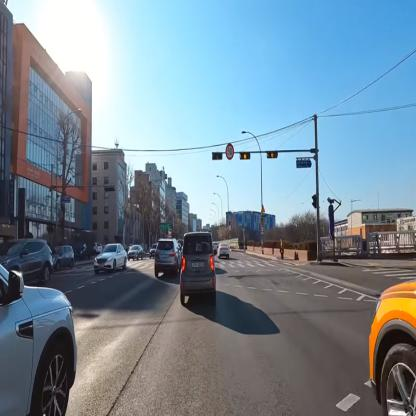Yellow: (267, 151, 278, 159), (240, 152, 250, 160)
